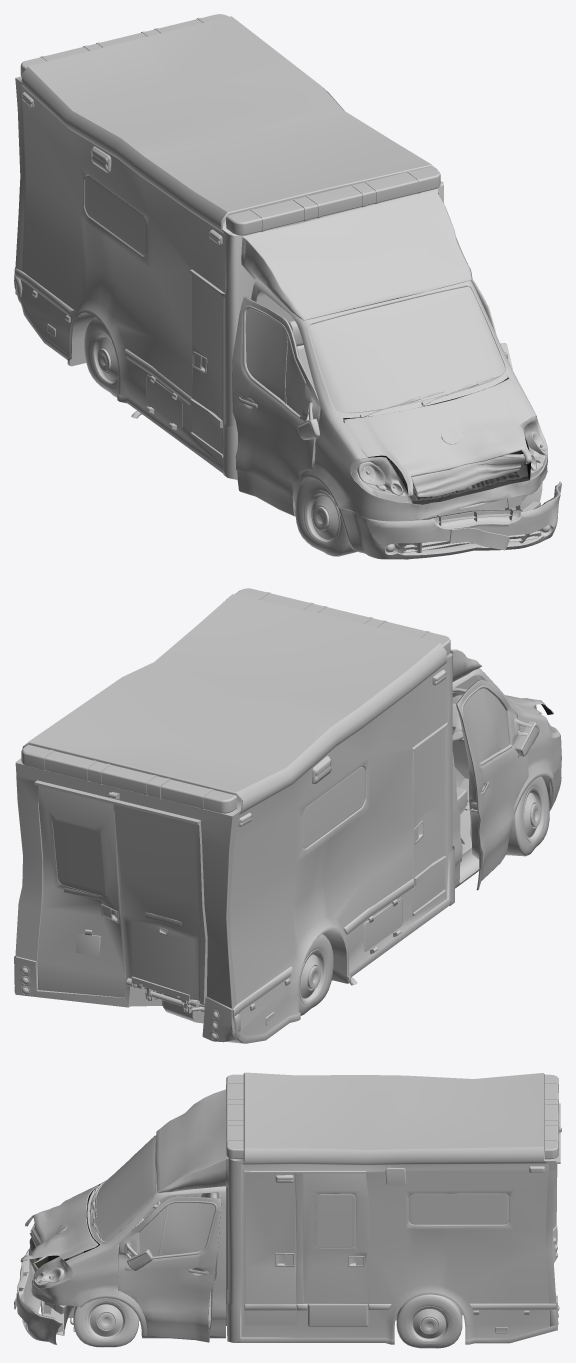
The model's file is Carb_largedamage.fbx.
The picture shows the model from 3 angles, top to bottom: view 1: azimuth 30°, elevation 25°; view 2: azimuth 150°, elevation 25°; view 3: azimuth 270°, elevation 25°; orthographic projection. The views are drawn at different scales.
Parts seen in each view (by area): view 1: LODGroup_1_MainMesh_1_SubMesh_3, LODGroup_1_MainMesh_1_SubMesh_1, LODGroup_1_MainMesh_1_SubMesh_2, LODGroup_1_MainMesh_1_SubMesh_4, LODGroup_1_MainMesh_1_SubMesh_6; view 2: LODGroup_1_MainMesh_1_SubMesh_3, LODGroup_1_MainMesh_1_SubMesh_1, LODGroup_1_MainMesh_1_SubMesh_2, LODGroup_1_MainMesh_1_SubMesh_6; view 3: LODGroup_1_MainMesh_1_SubMesh_3, LODGroup_1_MainMesh_1_SubMesh_1, LODGroup_1_MainMesh_1_SubMesh_2, LODGroup_1_MainMesh_1_SubMesh_4.
Boxes of the visible parts, left/top/right/bottom form: LODGroup_1_MainMesh_1_SubMesh_3: left=14, top=16, right=561, bottom=559; LODGroup_1_MainMesh_1_SubMesh_1: left=20, top=14, right=550, bottom=552; LODGroup_1_MainMesh_1_SubMesh_2: left=84, top=175, right=561, bottom=550; LODGroup_1_MainMesh_1_SubMesh_4: left=343, top=377, right=530, bottom=504; LODGroup_1_MainMesh_1_SubMesh_6: left=69, top=312, right=558, bottom=559; LODGroup_1_MainMesh_1_SubMesh_3: left=14, top=592, right=561, bottom=1043; LODGroup_1_MainMesh_1_SubMesh_1: left=21, top=588, right=509, bottom=826; LODGroup_1_MainMesh_1_SubMesh_2: left=52, top=680, right=550, bottom=895; LODGroup_1_MainMesh_1_SubMesh_6: left=126, top=776, right=552, bottom=1043; LODGroup_1_MainMesh_1_SubMesh_3: left=16, top=1072, right=561, bottom=1348; LODGroup_1_MainMesh_1_SubMesh_1: left=94, top=1074, right=558, bottom=1256; LODGroup_1_MainMesh_1_SubMesh_2: left=14, top=1192, right=509, bottom=1341; LODGroup_1_MainMesh_1_SubMesh_4: left=23, top=1184, right=100, bottom=1282.
Bounding box in the file's own units: 233 × 258 × 623.
